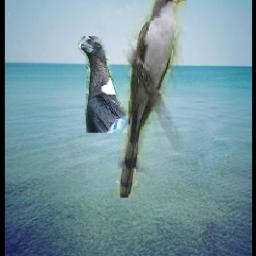Crow: (79, 37, 132, 134)
Cuckoo: (119, 0, 187, 198)
